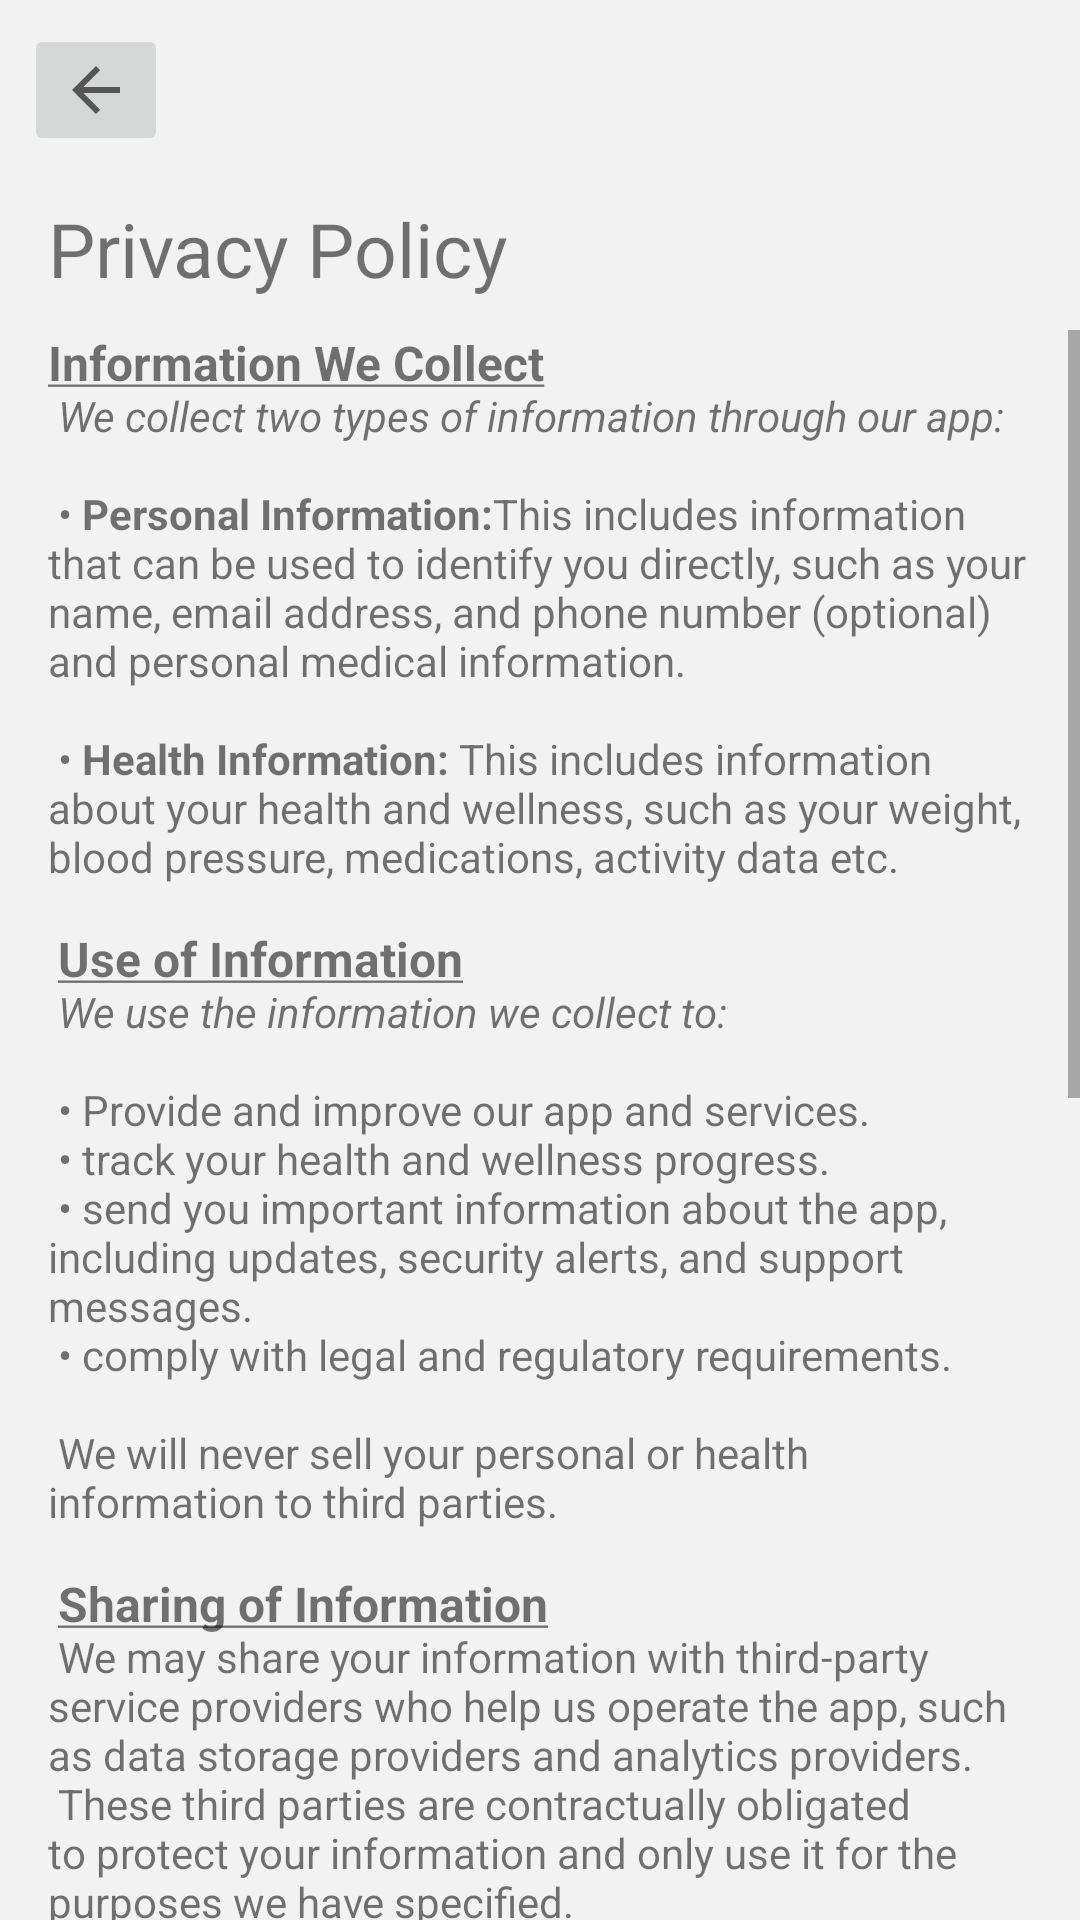

Screen size 1080px x 1920px. Icon name, then its box in pixels as (x1, y1, x2, y2):
Back Button: (36, 42, 156, 138)
